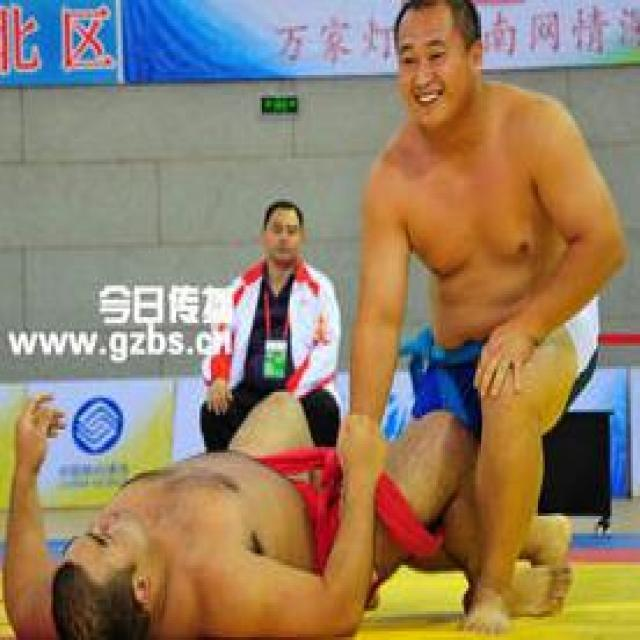fall: (2, 410, 530, 634)
